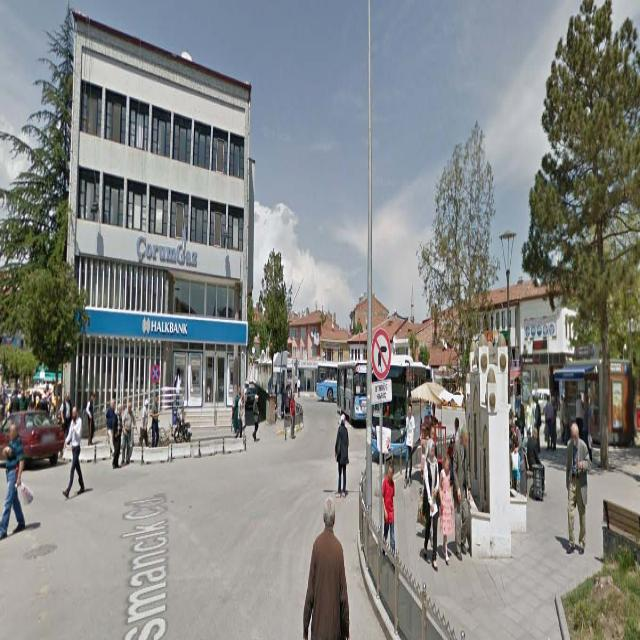sagadonulmez: (370, 330, 390, 377)
